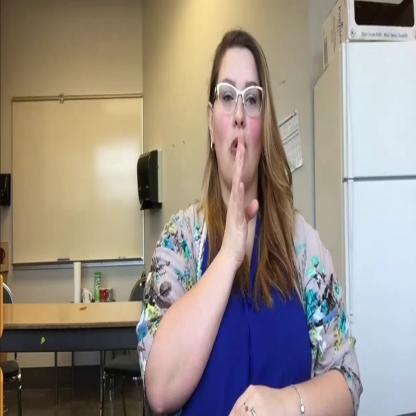Talk: (137, 24, 365, 416)
